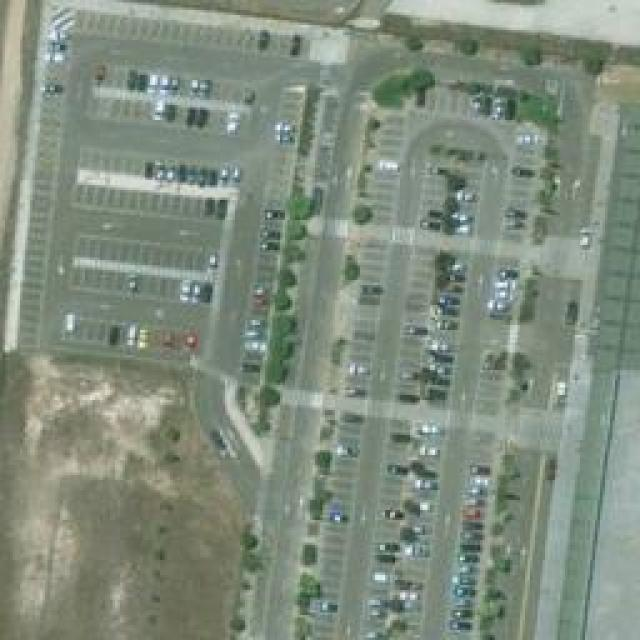Mountain: (0, 348, 250, 638)
Parking: (0, 0, 638, 638)
